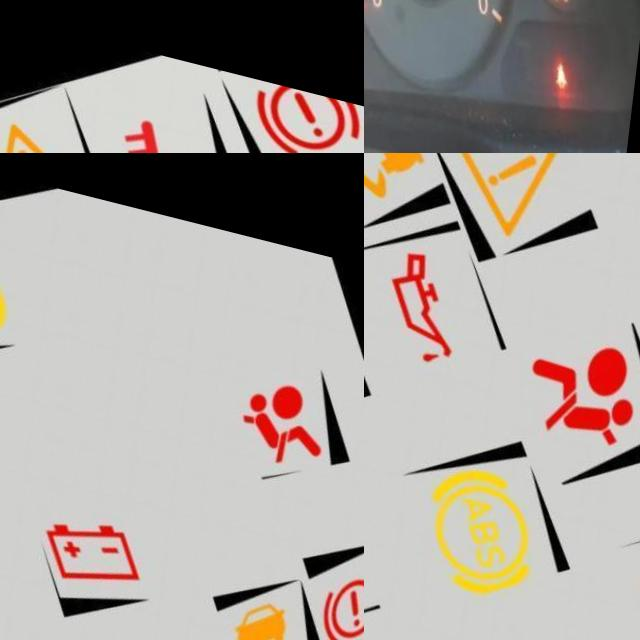Seat Belt: (563, 33, 581, 63)
